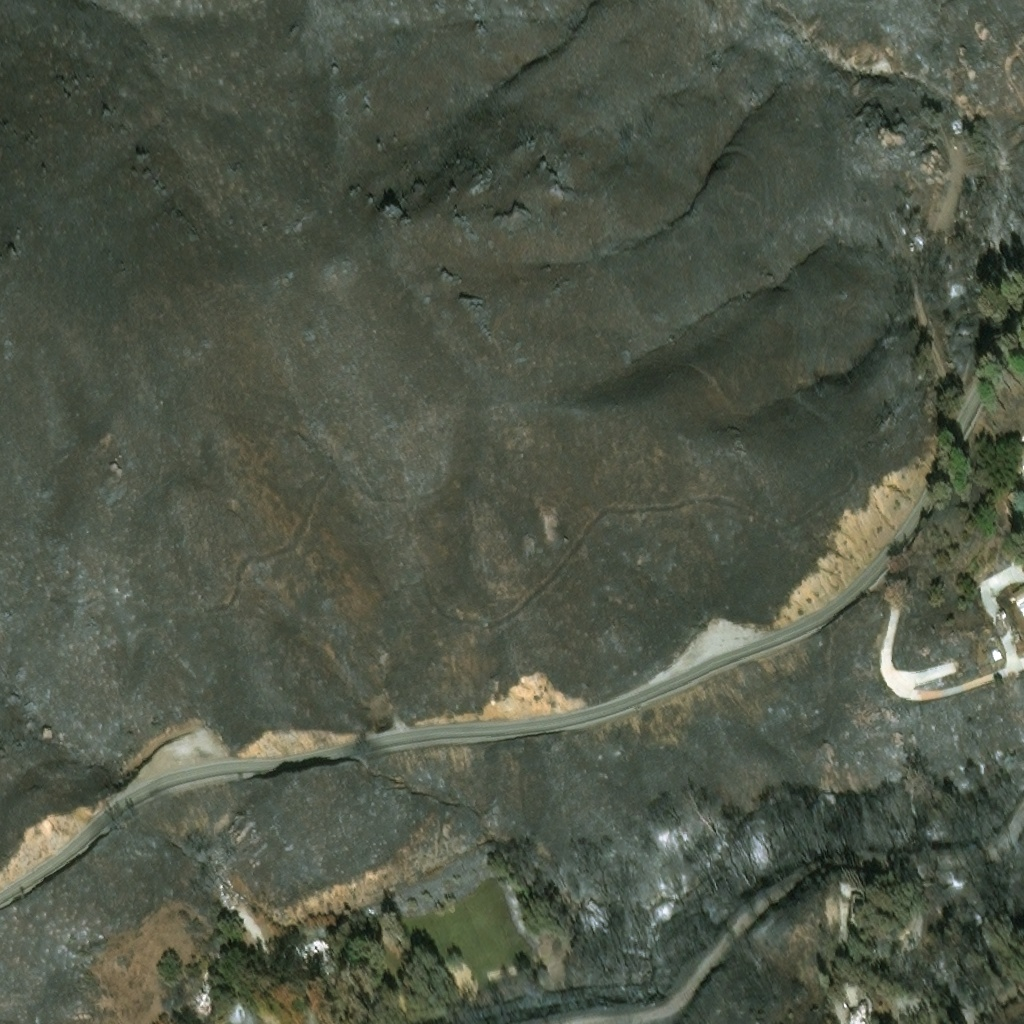3 destroyed: (842, 894, 867, 932), (844, 1001, 870, 1023), (947, 222, 969, 243), (199, 974, 213, 997), (187, 993, 199, 1006), (930, 892, 939, 899)
4 un-classified: (1011, 585, 1023, 601)
